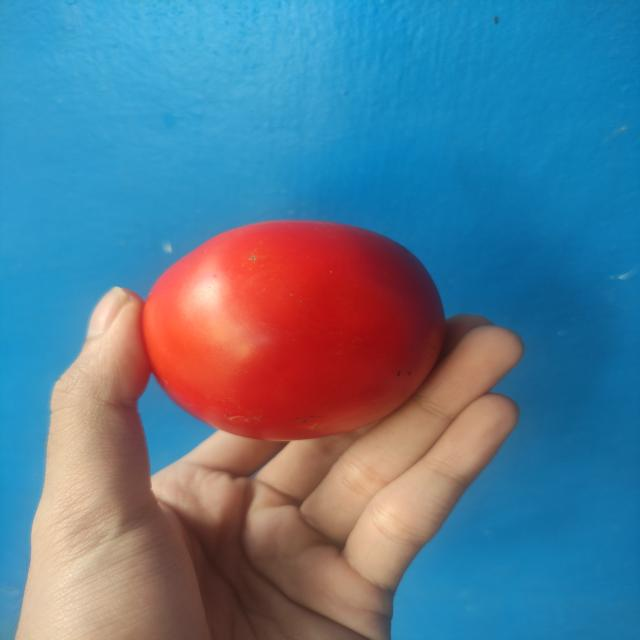ripe tomato: (139, 208, 453, 451)
